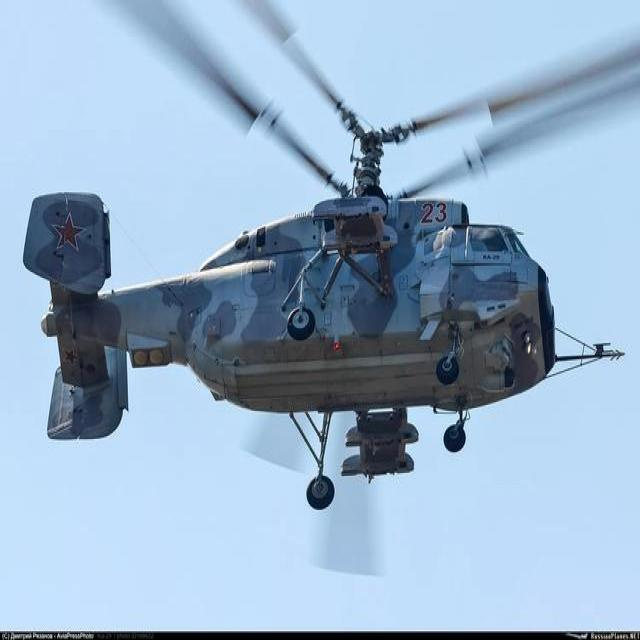MIL_HELO: (15, 11, 630, 514)
